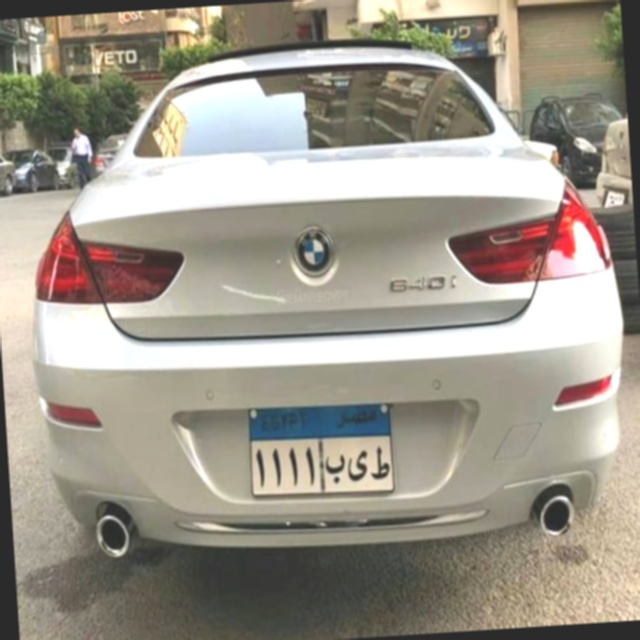License Plate: (242, 393, 399, 503)
